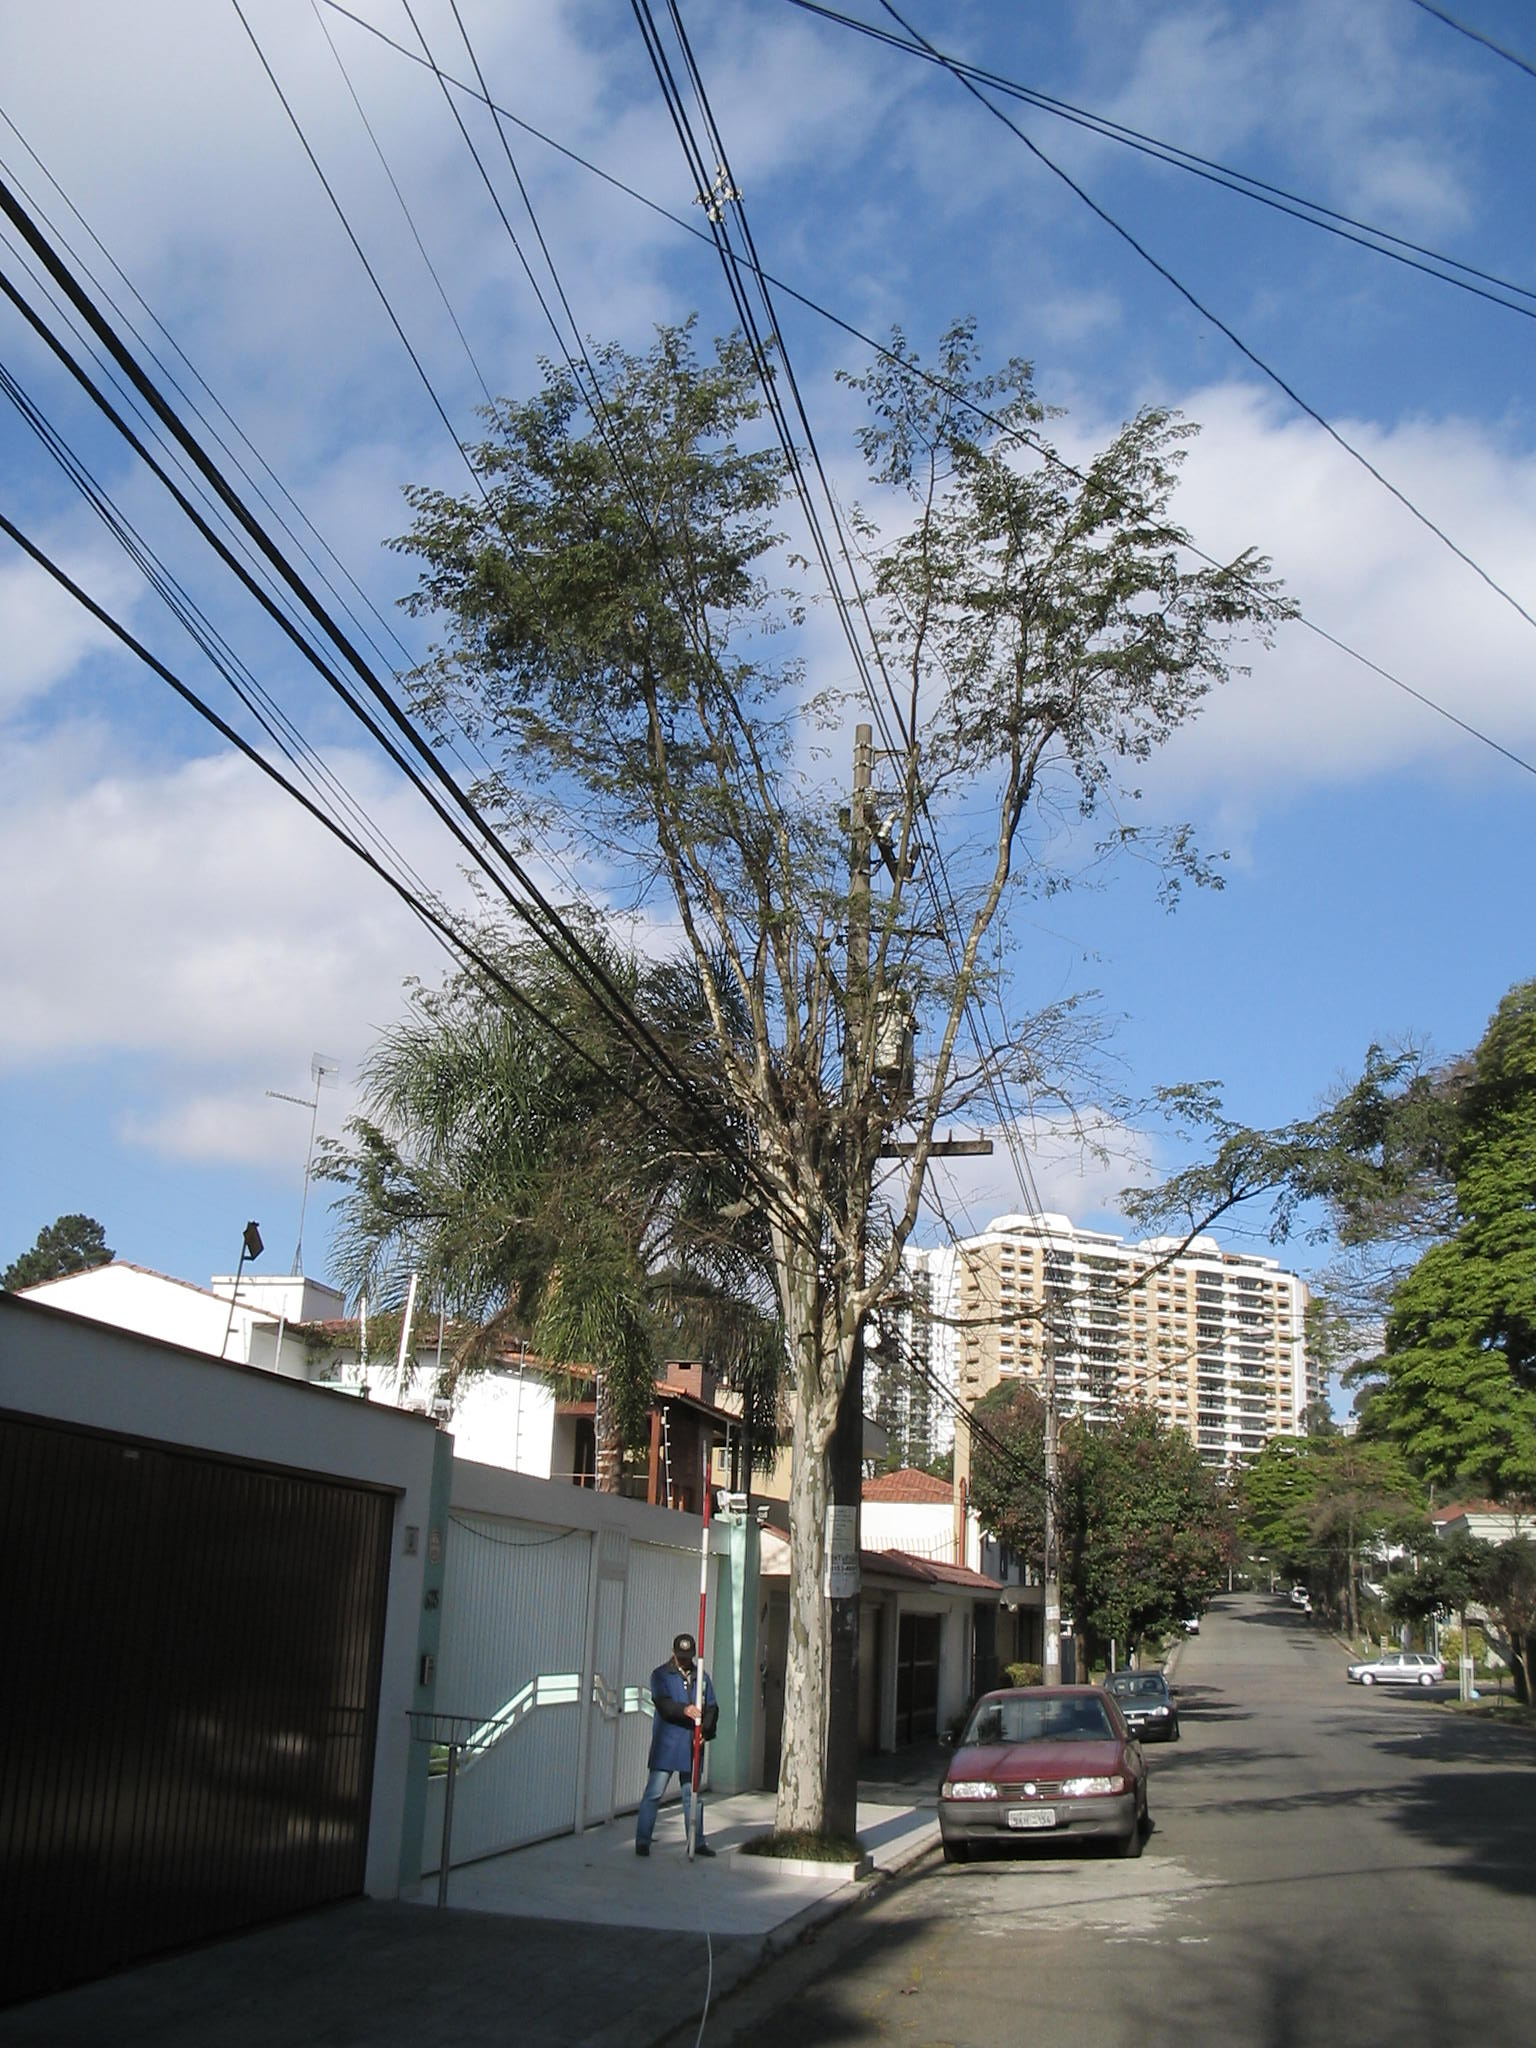crown: (399, 319, 1304, 956)
stem: (750, 1414, 854, 1846)
stick: (674, 1447, 721, 1854)
tree: (387, 314, 1309, 1848)
